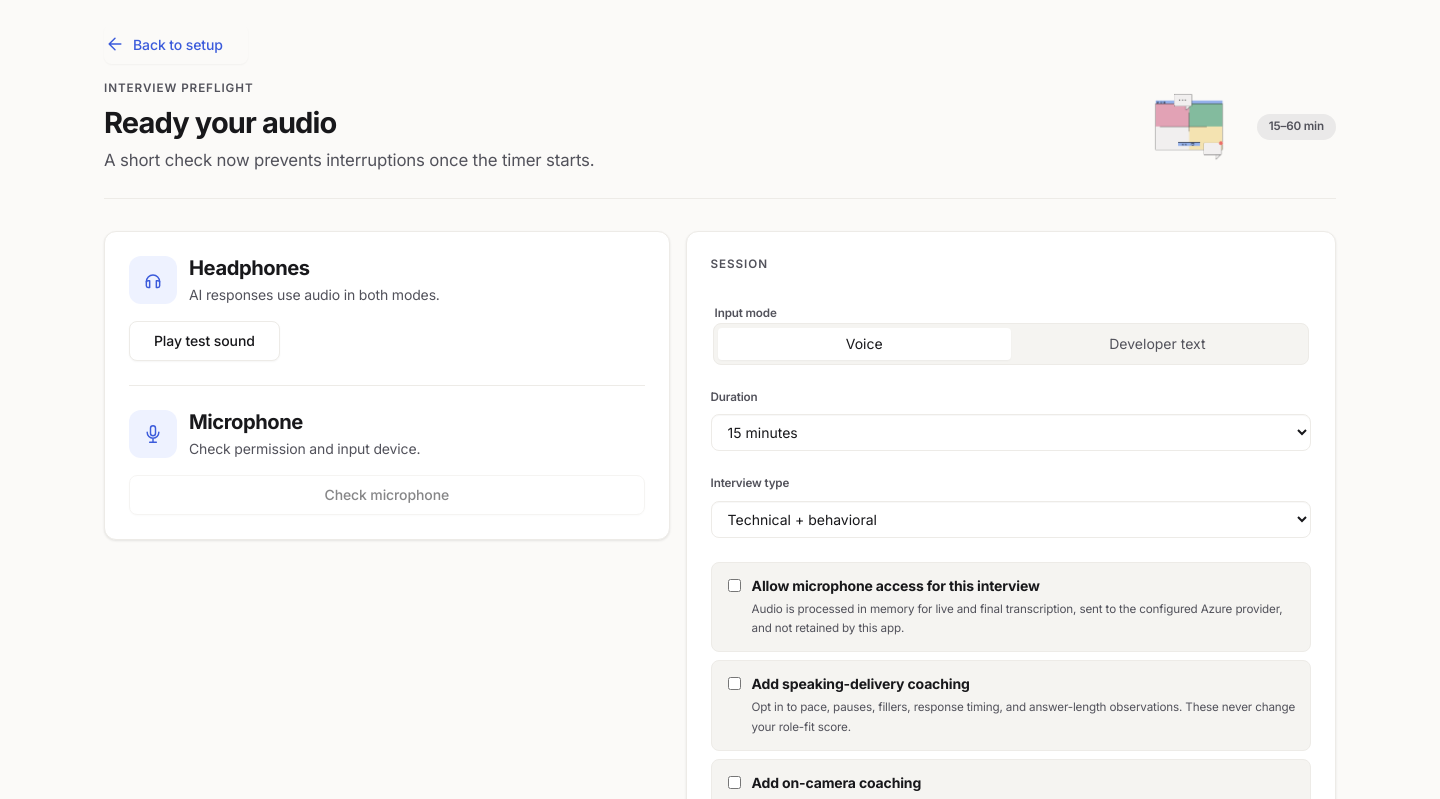
Test: Dual transcription capture › shows the candidate's answer before the saved turn comes back
Click the button "Play test sound": {"x": 204, "y": 341} [129,321,280,361]
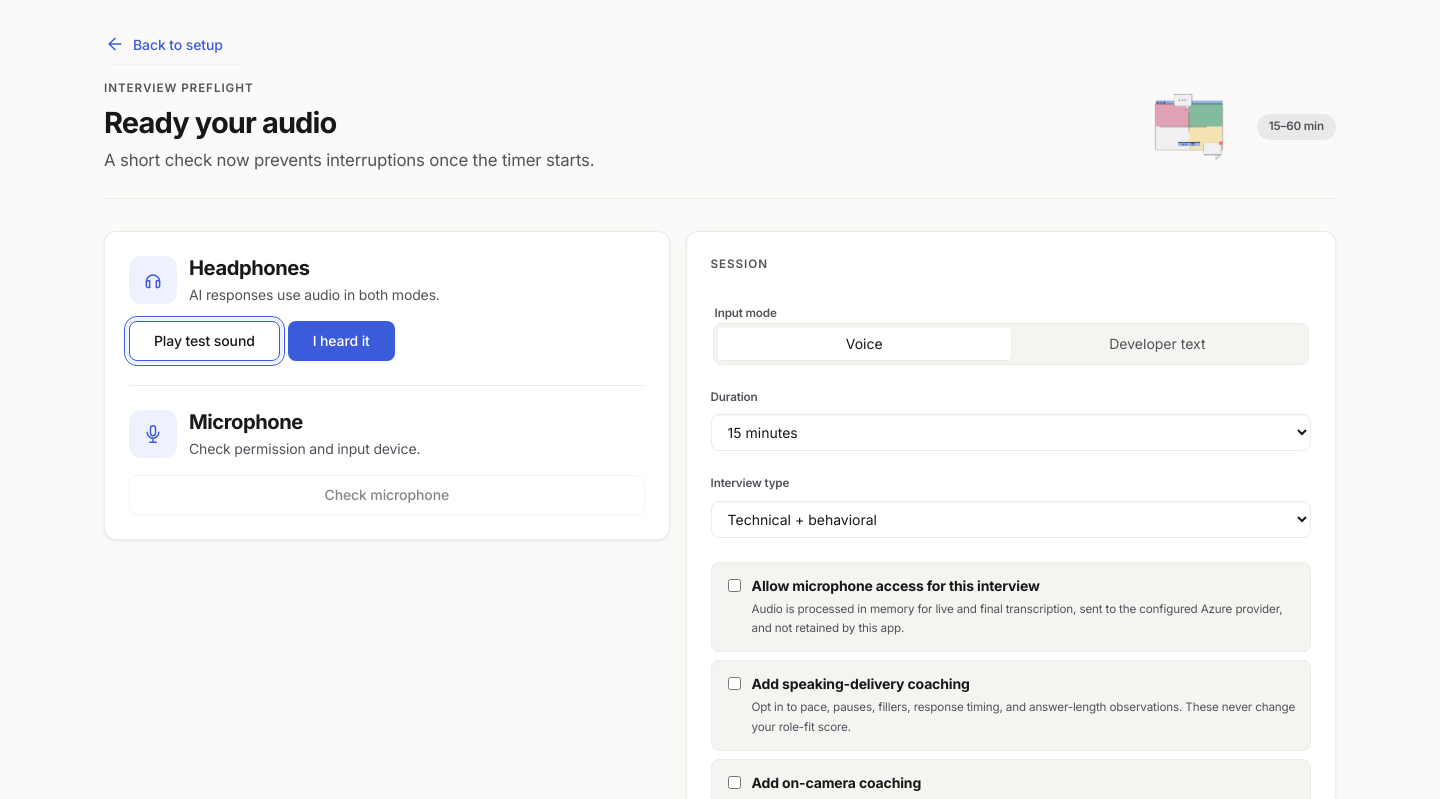
Click the button "I heard it": {"x": 341, "y": 341} [288,321,395,361]
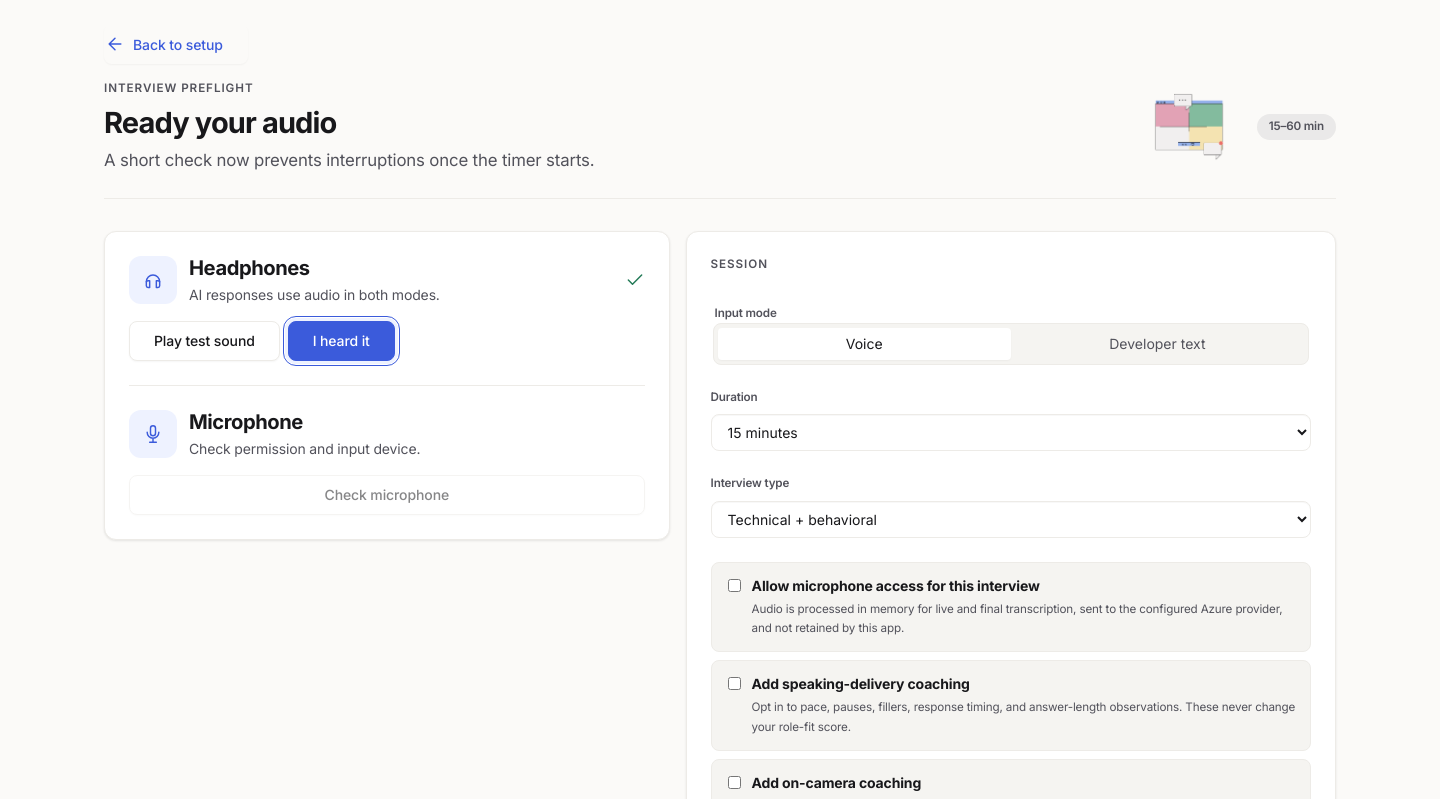
Click the checkbox labelled "Allow microphone access for this interview": {"x": 734, "y": 585} [728,578,741,592]
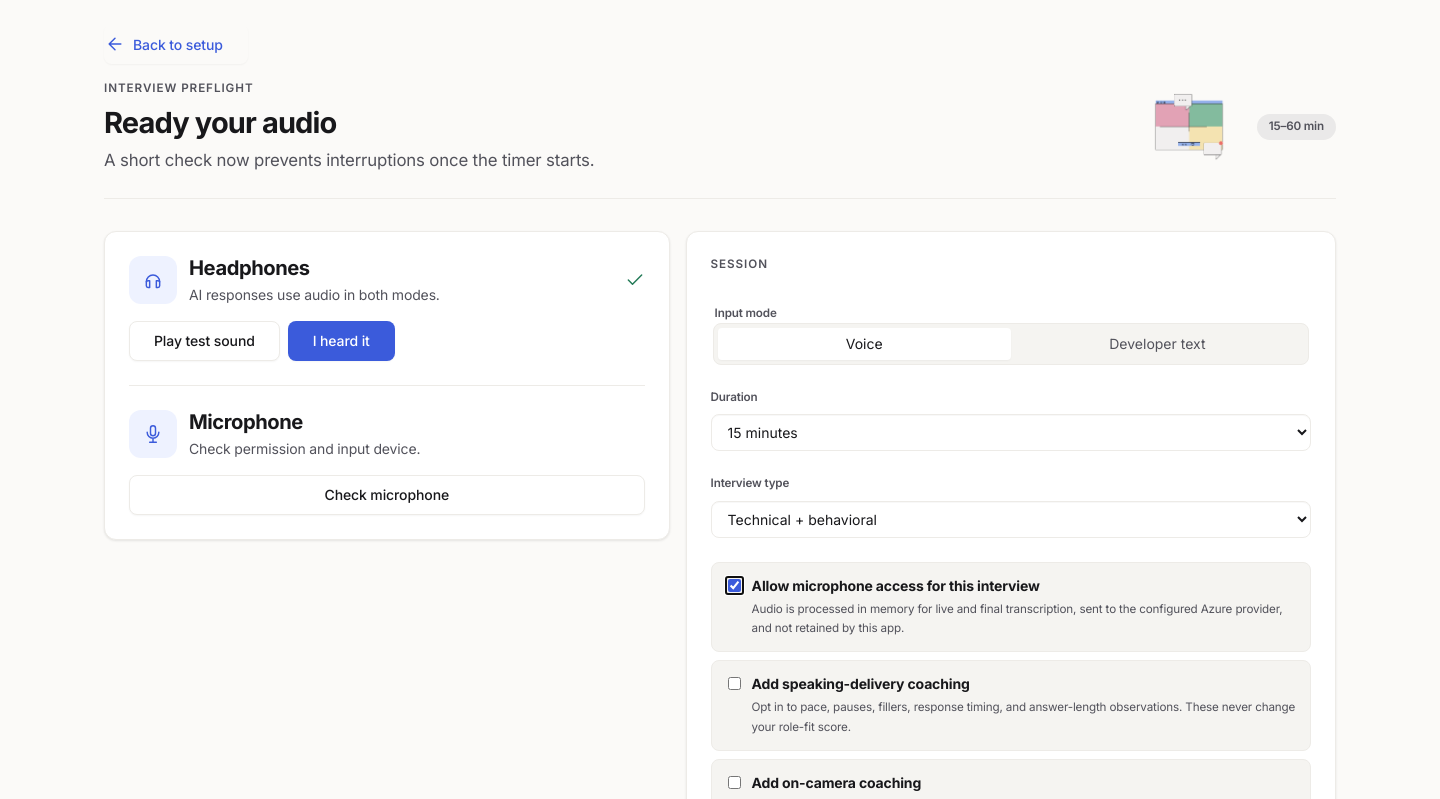
Click the button "Check microphone": {"x": 387, "y": 495} [129,475,645,515]
(page scrolled)
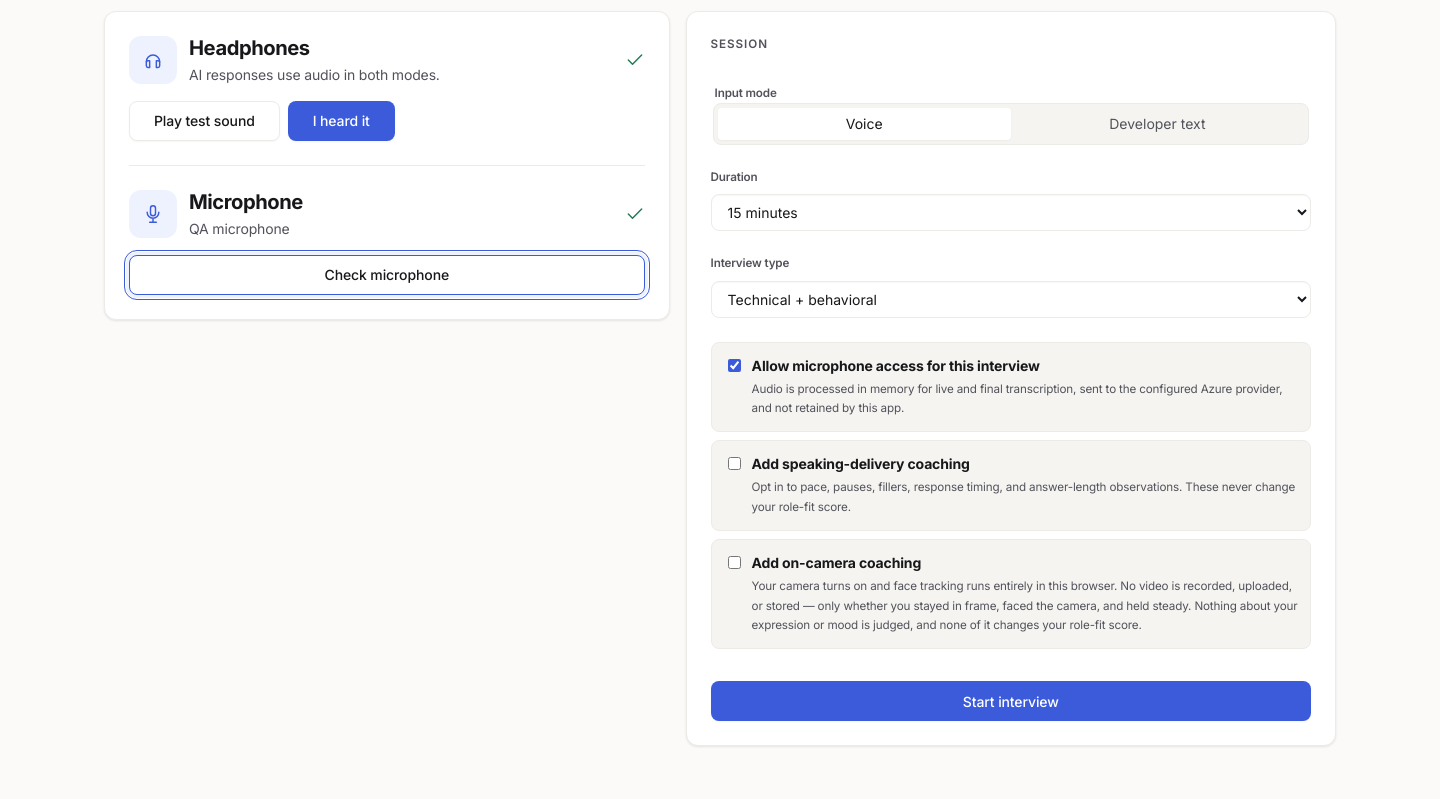
Check: the text "QA microphone" is shown, box [189,220,290,237]
Click the button "Start interview": {"x": 1011, "y": 701} [711,681,1311,721]
(page scrolled)
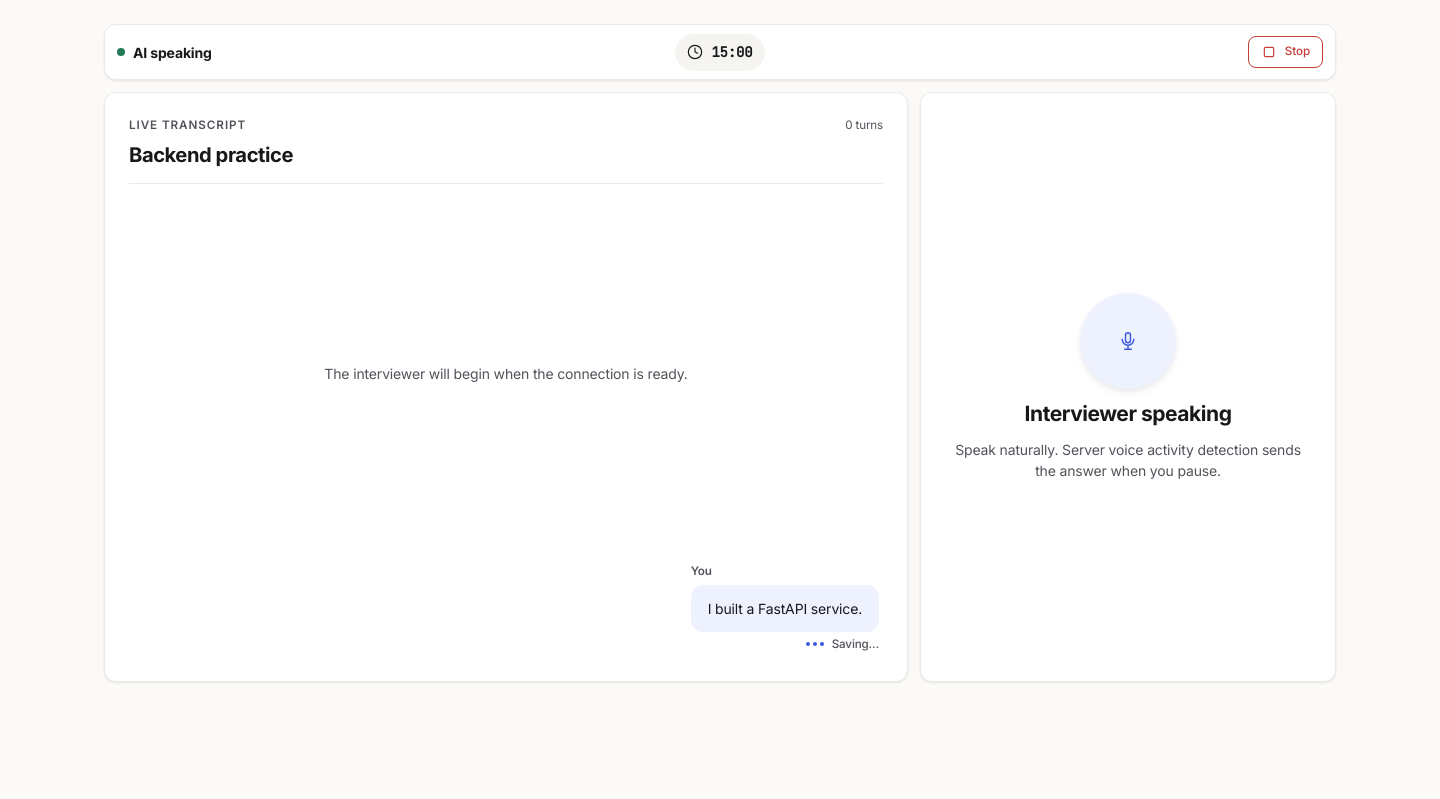
Check: the element with class "is-connected" is shown, box [117,48,125,56]
Check: the text "I built a FastAPI service." is shown, box [691,584,879,632]
Check: the text "Saving…" is shown, box [806,636,879,650]
